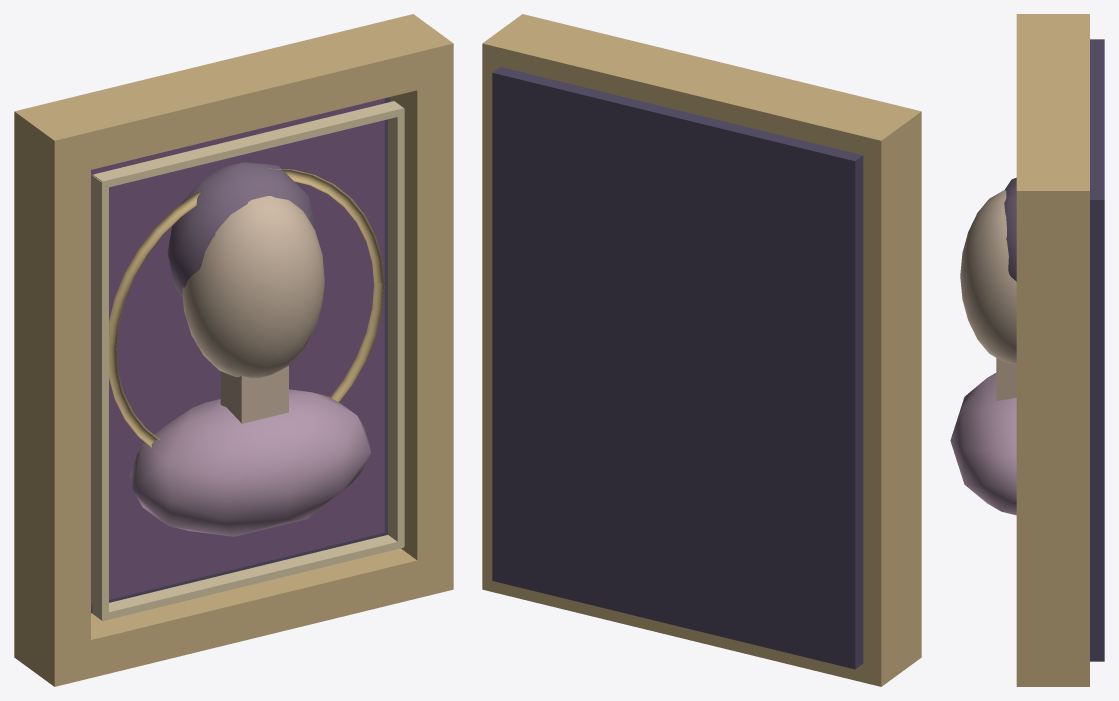
Rendered from ART-08.glb.
The picture shows the model from 3 angles, left to right: view 1: azimuth 30°, elevation 25°; view 2: azimuth 150°, elevation 25°; view 3: azimuth 270°, elevation 25°; orthographic projection. The views are drawn at different scales.
Parts seen in each view (by area): view 1: world; view 2: world; view 3: world.
Part boxes in pixels (left/top/right/bottom): world: left=14, top=14, right=453, bottom=686; world: left=482, top=14, right=921, bottom=686; world: left=950, top=14, right=1104, bottom=686.
Bounding box in the file's own units: 1.53 × 2 × 0.5636.
